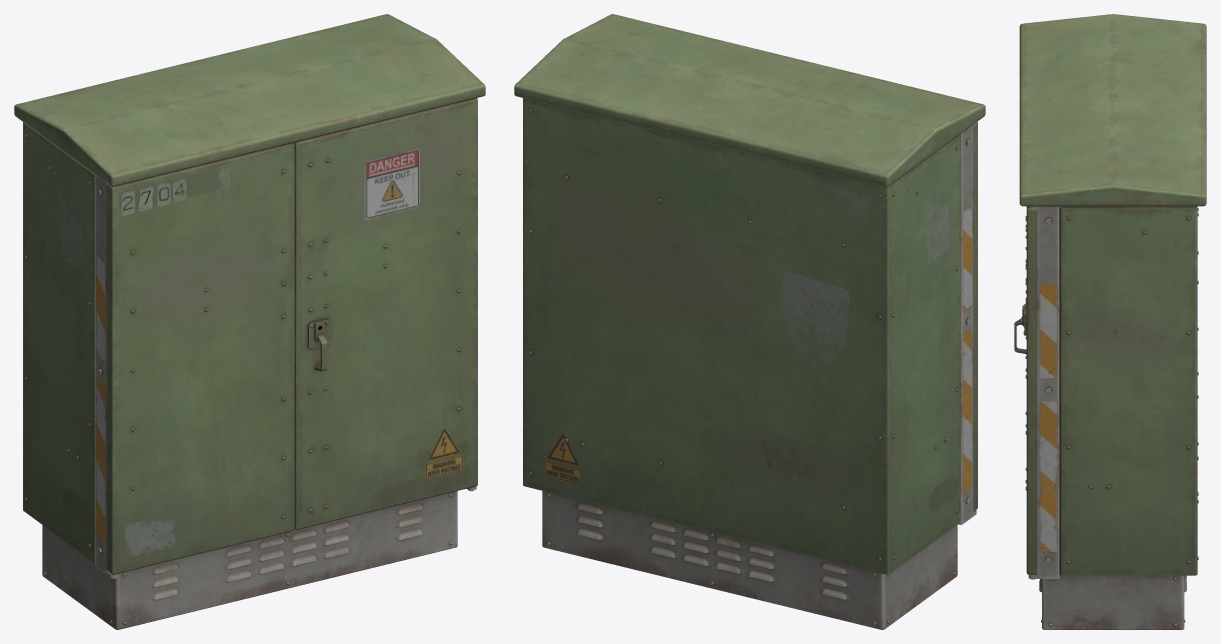
The model's file is utility_box_02.glb.
3 renders of one model, left to right at view 1: azimuth 30°, elevation 25°; view 2: azimuth 150°, elevation 25°; view 3: azimuth 270°, elevation 25°, orthographic. The views are drawn at different scales.
Parts seen in each view (by area): view 1: utility_box_02; view 2: utility_box_02; view 3: utility_box_02.
Part boxes in pixels (box(x1,y1,x2,y2)): utility_box_02: box(14, 14, 485, 629); utility_box_02: box(514, 14, 985, 629); utility_box_02: box(1014, 14, 1206, 629).
Bounding box in the file's own units: 0.92 × 1.12 × 0.432.
1 material, 1 textured.
